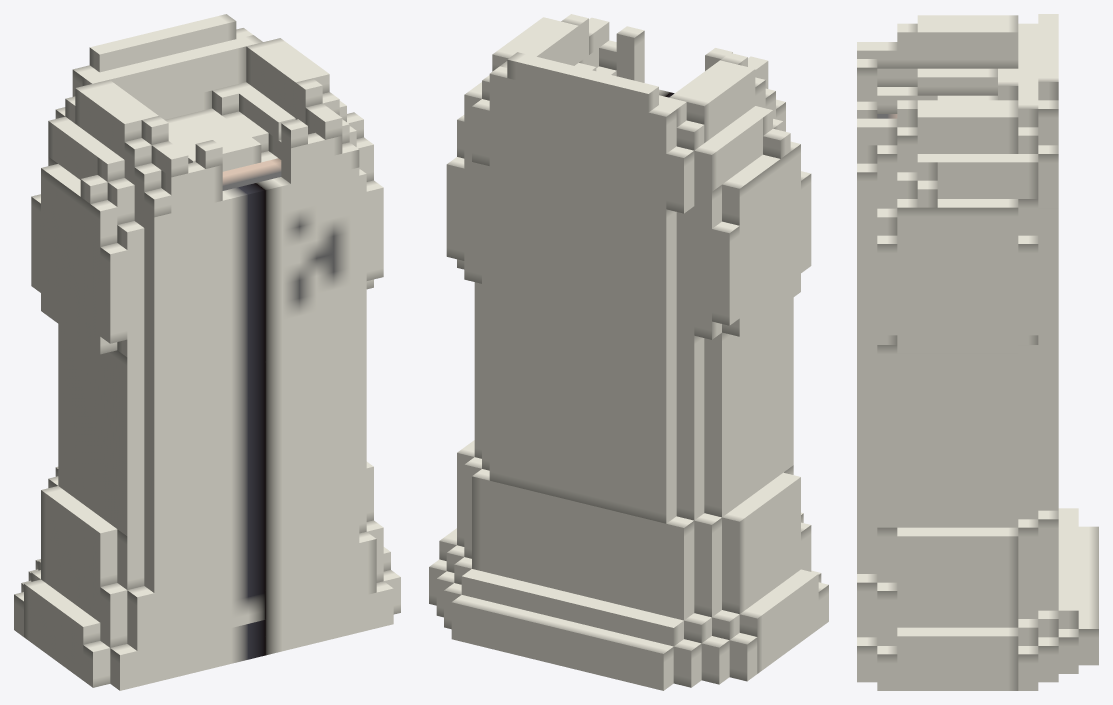
The model's file is TORS_MARKOWY.dae.
3 renders of one model, left to right at view 1: azimuth 30°, elevation 25°; view 2: azimuth 150°, elevation 25°; view 3: azimuth 270°, elevation 25°, orthographic. The views are drawn at different scales.
Visible parts, largest first — view 1: Content; view 2: Content; view 3: Content.
Boxes of the visible parts, x1,y1,x2,y2 form: Content: (14,14,400,690); Content: (429,14,828,690); Content: (857,14,1098,690).
Size of the model in its own units: 18 by 31 by 12.
Materials: 1 (1 with a texture image).
